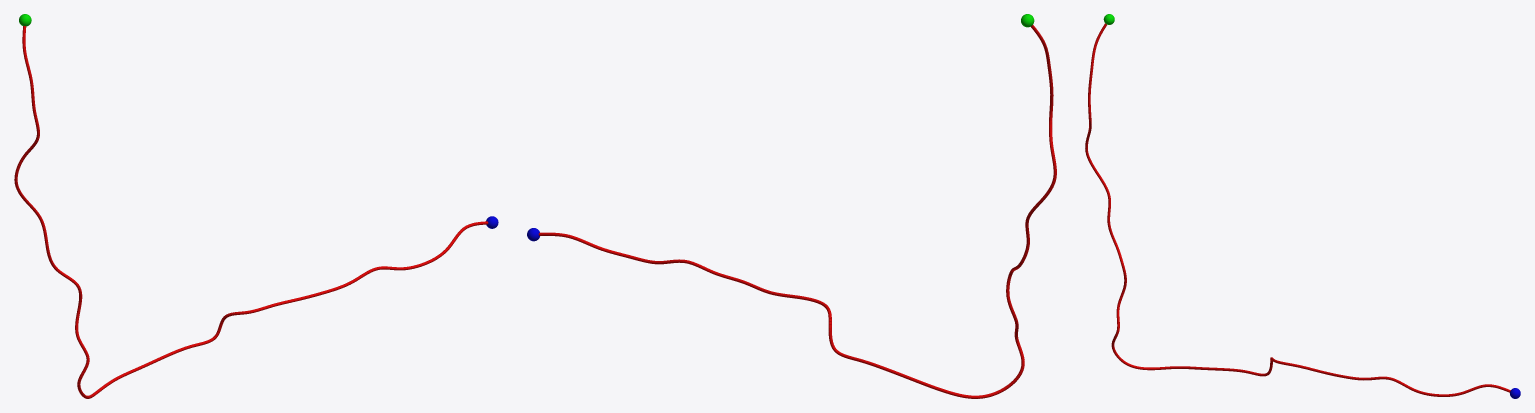
File: paths.obj
The picture shows the model from 3 angles, left to right: view 1: azimuth 30°, elevation 25°; view 2: azimuth 150°, elevation 25°; view 3: azimuth 330°, elevation 25°; orthographic projection. The views are drawn at different scales.
Size of the model in its own units: 1.79 by 1.34 by 0.1924.
